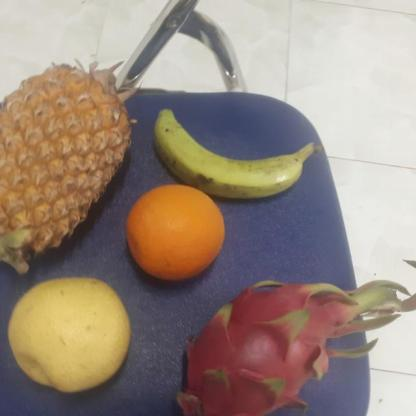banana: (145, 98, 307, 200)
orange: (123, 186, 226, 281)
pear: (1, 276, 134, 395)
pineapple: (0, 71, 131, 266)
pitaya: (168, 278, 350, 416)
